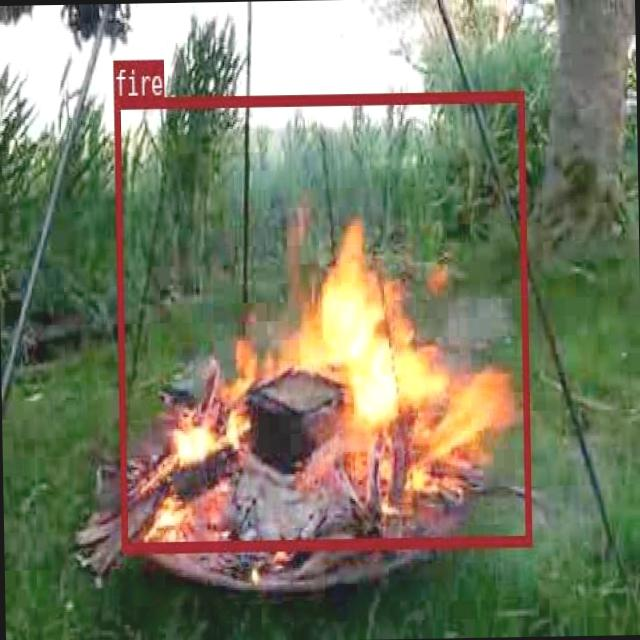fire: (112, 90, 530, 550)
